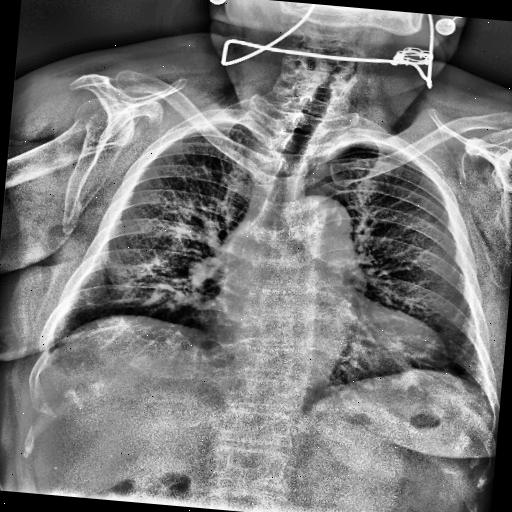0- Aortic enlargement: (284, 196, 358, 266), (281, 195, 354, 255), (288, 194, 354, 252)
3- Cardiomegaly: (206, 295, 454, 381), (198, 298, 454, 376), (199, 303, 454, 376)
